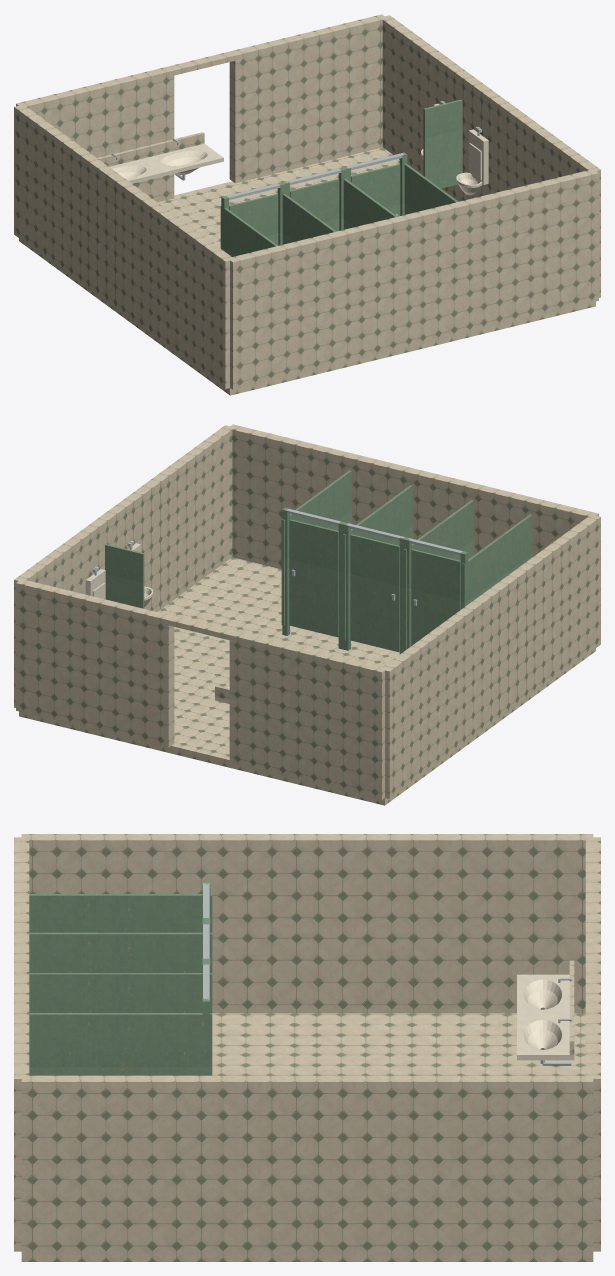
The model's file is bath-public-washroom.gltf.
3 views of the same model, one above another, from view 1: azimuth 30°, elevation 25°; view 2: azimuth 150°, elevation 25°; view 3: azimuth 270°, elevation 25° (orthographic). The views are drawn at different scales.
Visible parts, largest first — view 1: exterior-tile, partition-paint, floor-tile, door-paint (×3), fixture-ceramic, counter-ceramic, fixture-tile, partition-metal; view 2: exterior-tile, floor-tile, partition-paint, door-paint (×3), partition-metal, fixture-ceramic; view 3: exterior-tile, partition-paint, floor-tile, counter-ceramic, fixture-ceramic, partition-metal.
Part boxes in pixels (x1,y1,x2,y2): exterior-tile: (14,14,600,389); partition-paint: (220,99,462,256); floor-tile: (19,147,595,395); door-paint (×3): (229,164,400,245); fixture-ceramic: (111,103,488,195); counter-ceramic: (109,143,223,183); fixture-tile: (97,132,204,166); partition-metal: (226,153,404,199); exterior-tile: (14,424,600,799); floor-tile: (19,557,595,805); partition-paint: (105,470,532,654); door-paint (×3): (289,519,460,652); partition-metal: (285,509,462,555); fixture-ceramic: (85,543,153,606); exterior-tile: (14,834,600,1254); partition-paint: (29,881,212,1075); floor-tile: (21,1013,593,1261); counter-ceramic: (517,974,574,1060); fixture-ceramic: (521,978,564,1050); partition-metal: (203,883,209,999).
Size of the model in its own units: 6.16 by 2.12 by 6.16.
Materials: 7 (3 with a texture image).
